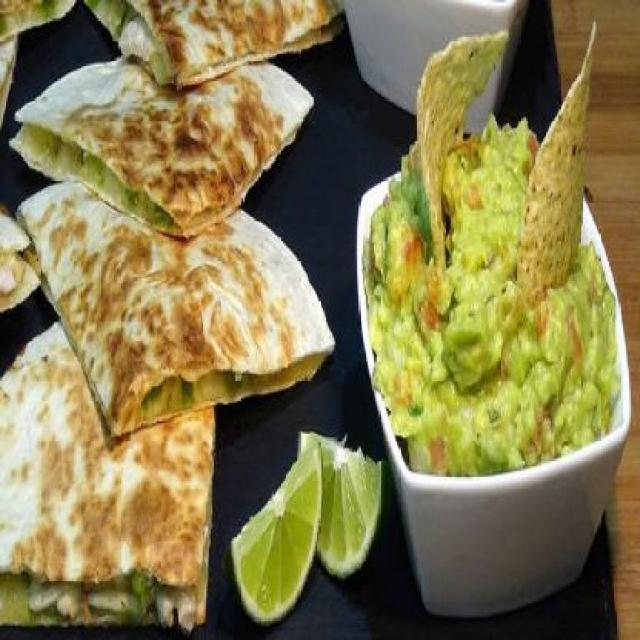guacamole: (358, 100, 627, 522)
nachos: (407, 19, 511, 272), (517, 18, 605, 294)
